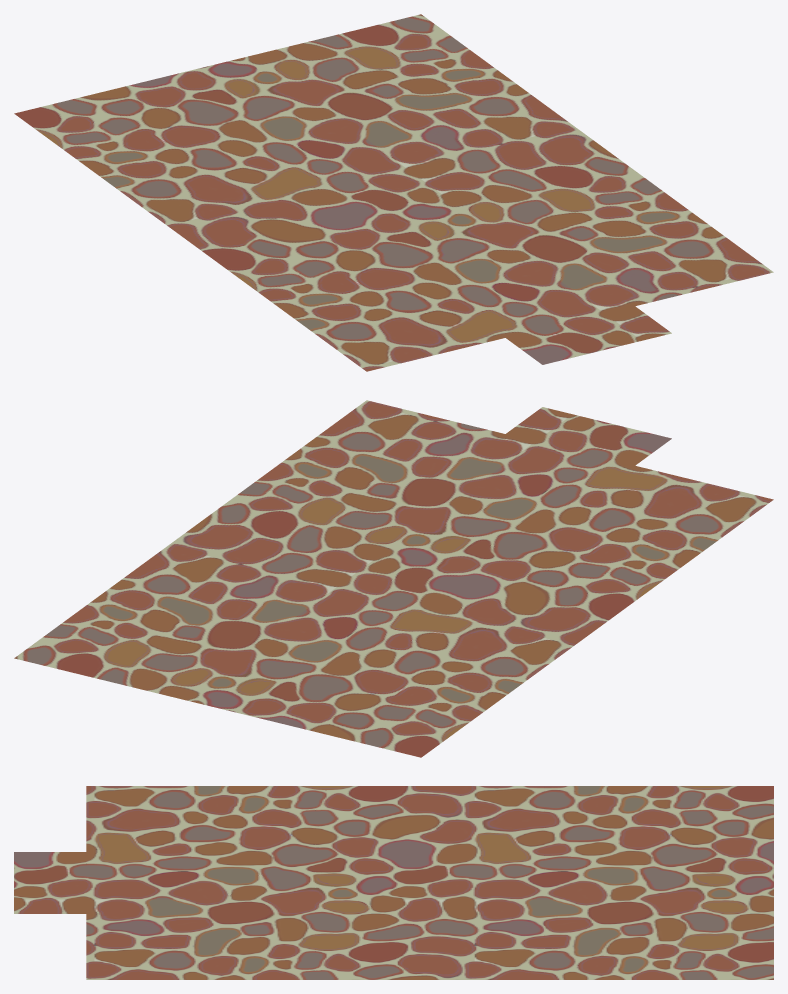
The model's file is Floor02_d01.FBX.
The picture shows the model from 3 angles, top to bottom: view 1: azimuth 30°, elevation 25°; view 2: azimuth 150°, elevation 25°; view 3: azimuth 270°, elevation 25°; orthographic projection. The views are drawn at different scales.
Visible parts, largest first — view 1: Floor02_d01; view 2: Floor02_d01; view 3: Floor02_d01.
Part boxes in pixels (x1,y1,x2,y2): Floor02_d01: (14,14,773,371); Floor02_d01: (14,400,773,757); Floor02_d01: (14,786,773,979).
Size of the model in its own units: 600 by 0.000446 by 995.
1 material, 1 textured.
